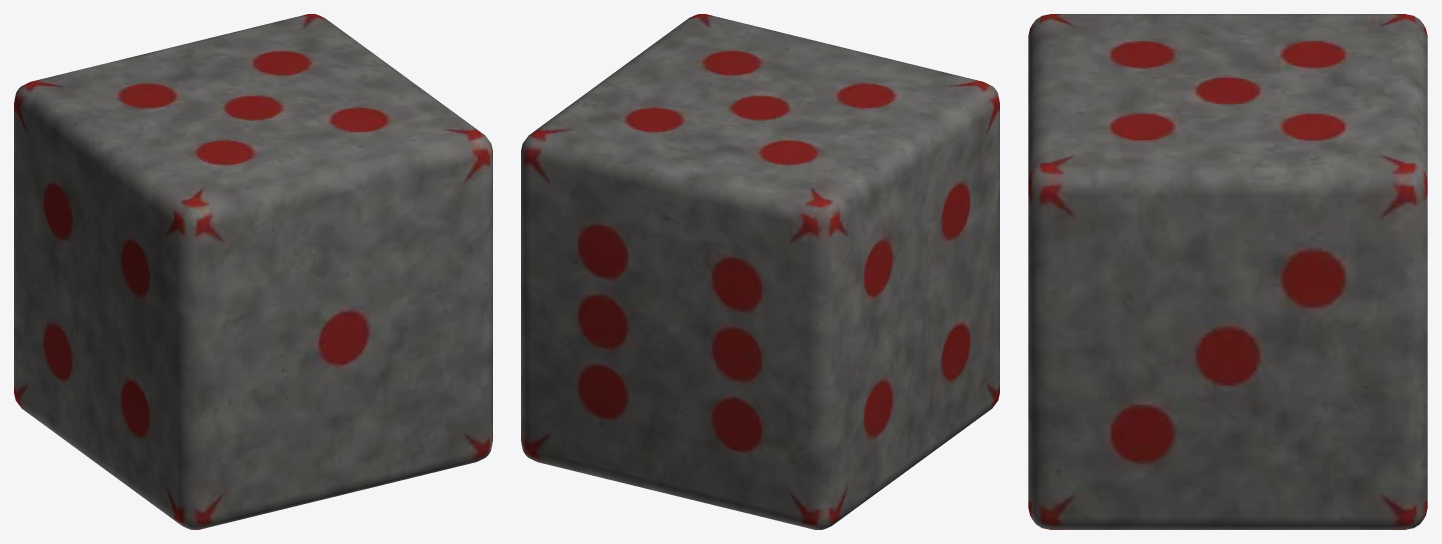
The model's file is dunmer-d6.glb.
3 views of the same model, side by side, from view 1: azimuth 30°, elevation 25°; view 2: azimuth 150°, elevation 25°; view 3: azimuth 270°, elevation 25° (orthographic). The views are drawn at different scales.
Visible parts, largest first — view 1: dunmer_d6; view 2: dunmer_d6; view 3: dunmer_d6.
Boxes of the visible parts, box(x1,y1,x2,y2) form: dunmer_d6: box(14, 14, 492, 529); dunmer_d6: box(521, 14, 999, 529); dunmer_d6: box(1028, 14, 1427, 529).
Size of the model in its own units: 1.4 by 1.4 by 1.4.
Materials: 1 (1 with a texture image).
